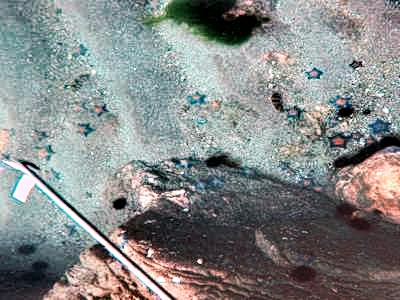urchin: (285, 266, 321, 285), (348, 217, 369, 232), (332, 204, 355, 217)
